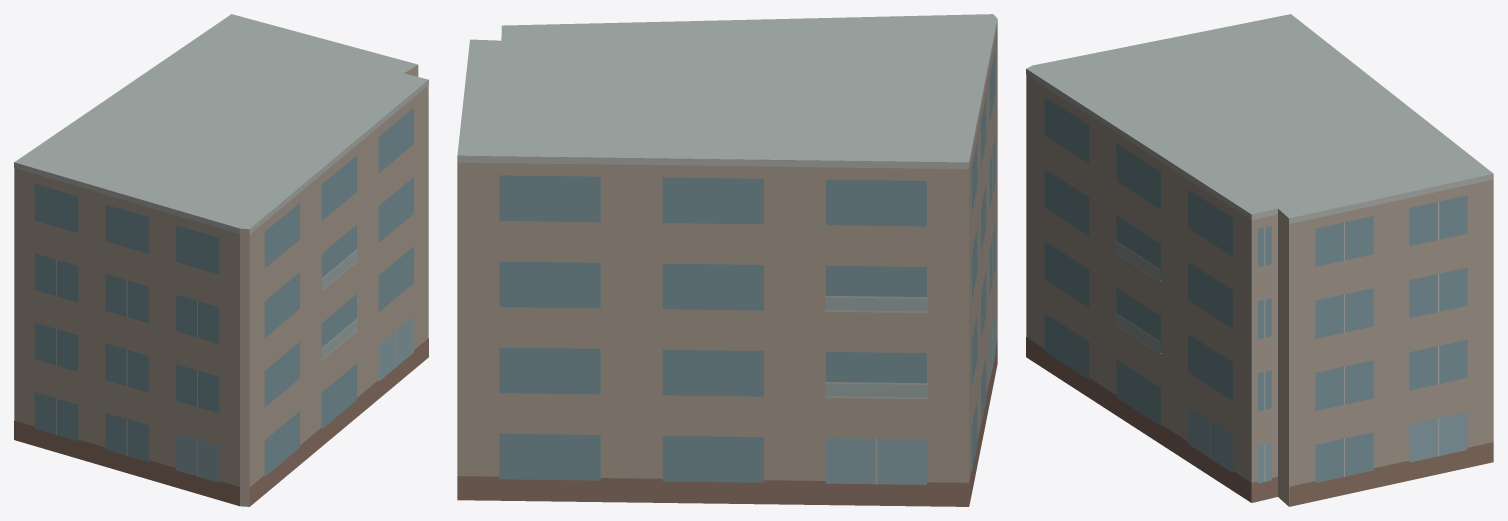
Rendered from survey-upis-32519714.glb.
3 views of the same model, side by side, from view 1: azimuth 30°, elevation 25°; view 2: azimuth 150°, elevation 25°; view 3: azimuth 270°, elevation 25° (orthographic). The views are drawn at different scales.
Parts seen in each view (by area): view 1: survey-upis-32519714.tmp; view 2: survey-upis-32519714.tmp; view 3: survey-upis-32519714.tmp.
Part boxes in pixels (x1,y1,x2,y2): survey-upis-32519714.tmp: (14,14,428,506); survey-upis-32519714.tmp: (457,14,997,506); survey-upis-32519714.tmp: (1026,14,1493,506).
Bounding box in the file's own units: 18.55 × 12.2 × 17.93.
